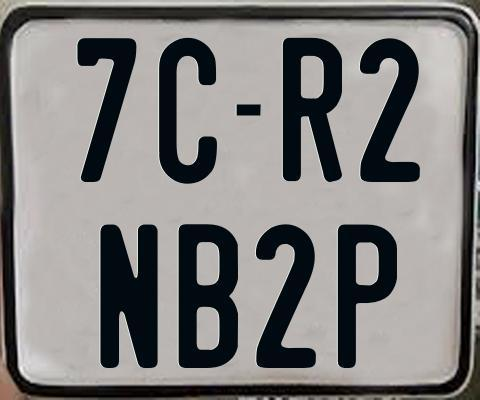2: (256, 224, 317, 372), (358, 38, 418, 188)
7: (77, 35, 139, 182)
B: (179, 222, 239, 366)
C: (156, 37, 214, 189)
N: (99, 222, 163, 371)
P: (338, 222, 400, 366)
R: (283, 37, 344, 186)
